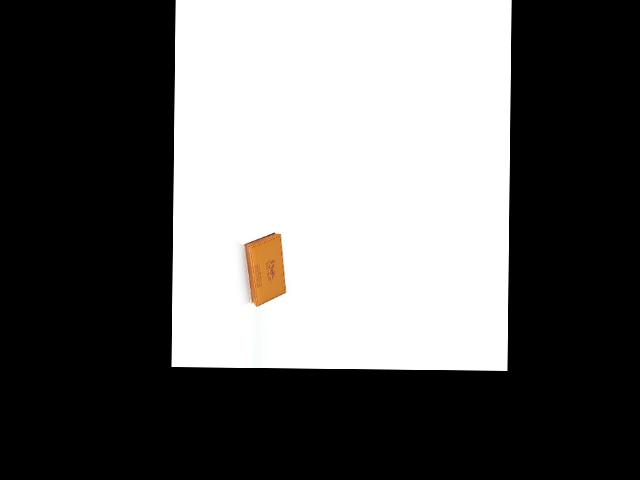chocolate: (237, 230, 289, 306)
